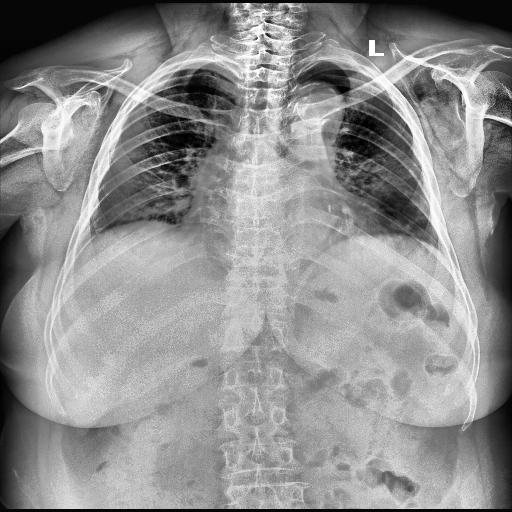0- Aortic enlargement: (278, 78, 344, 146), (283, 82, 343, 131), (280, 84, 344, 128)
3- Cardiomegaly: (178, 206, 406, 267), (178, 200, 388, 253), (182, 198, 405, 244)
